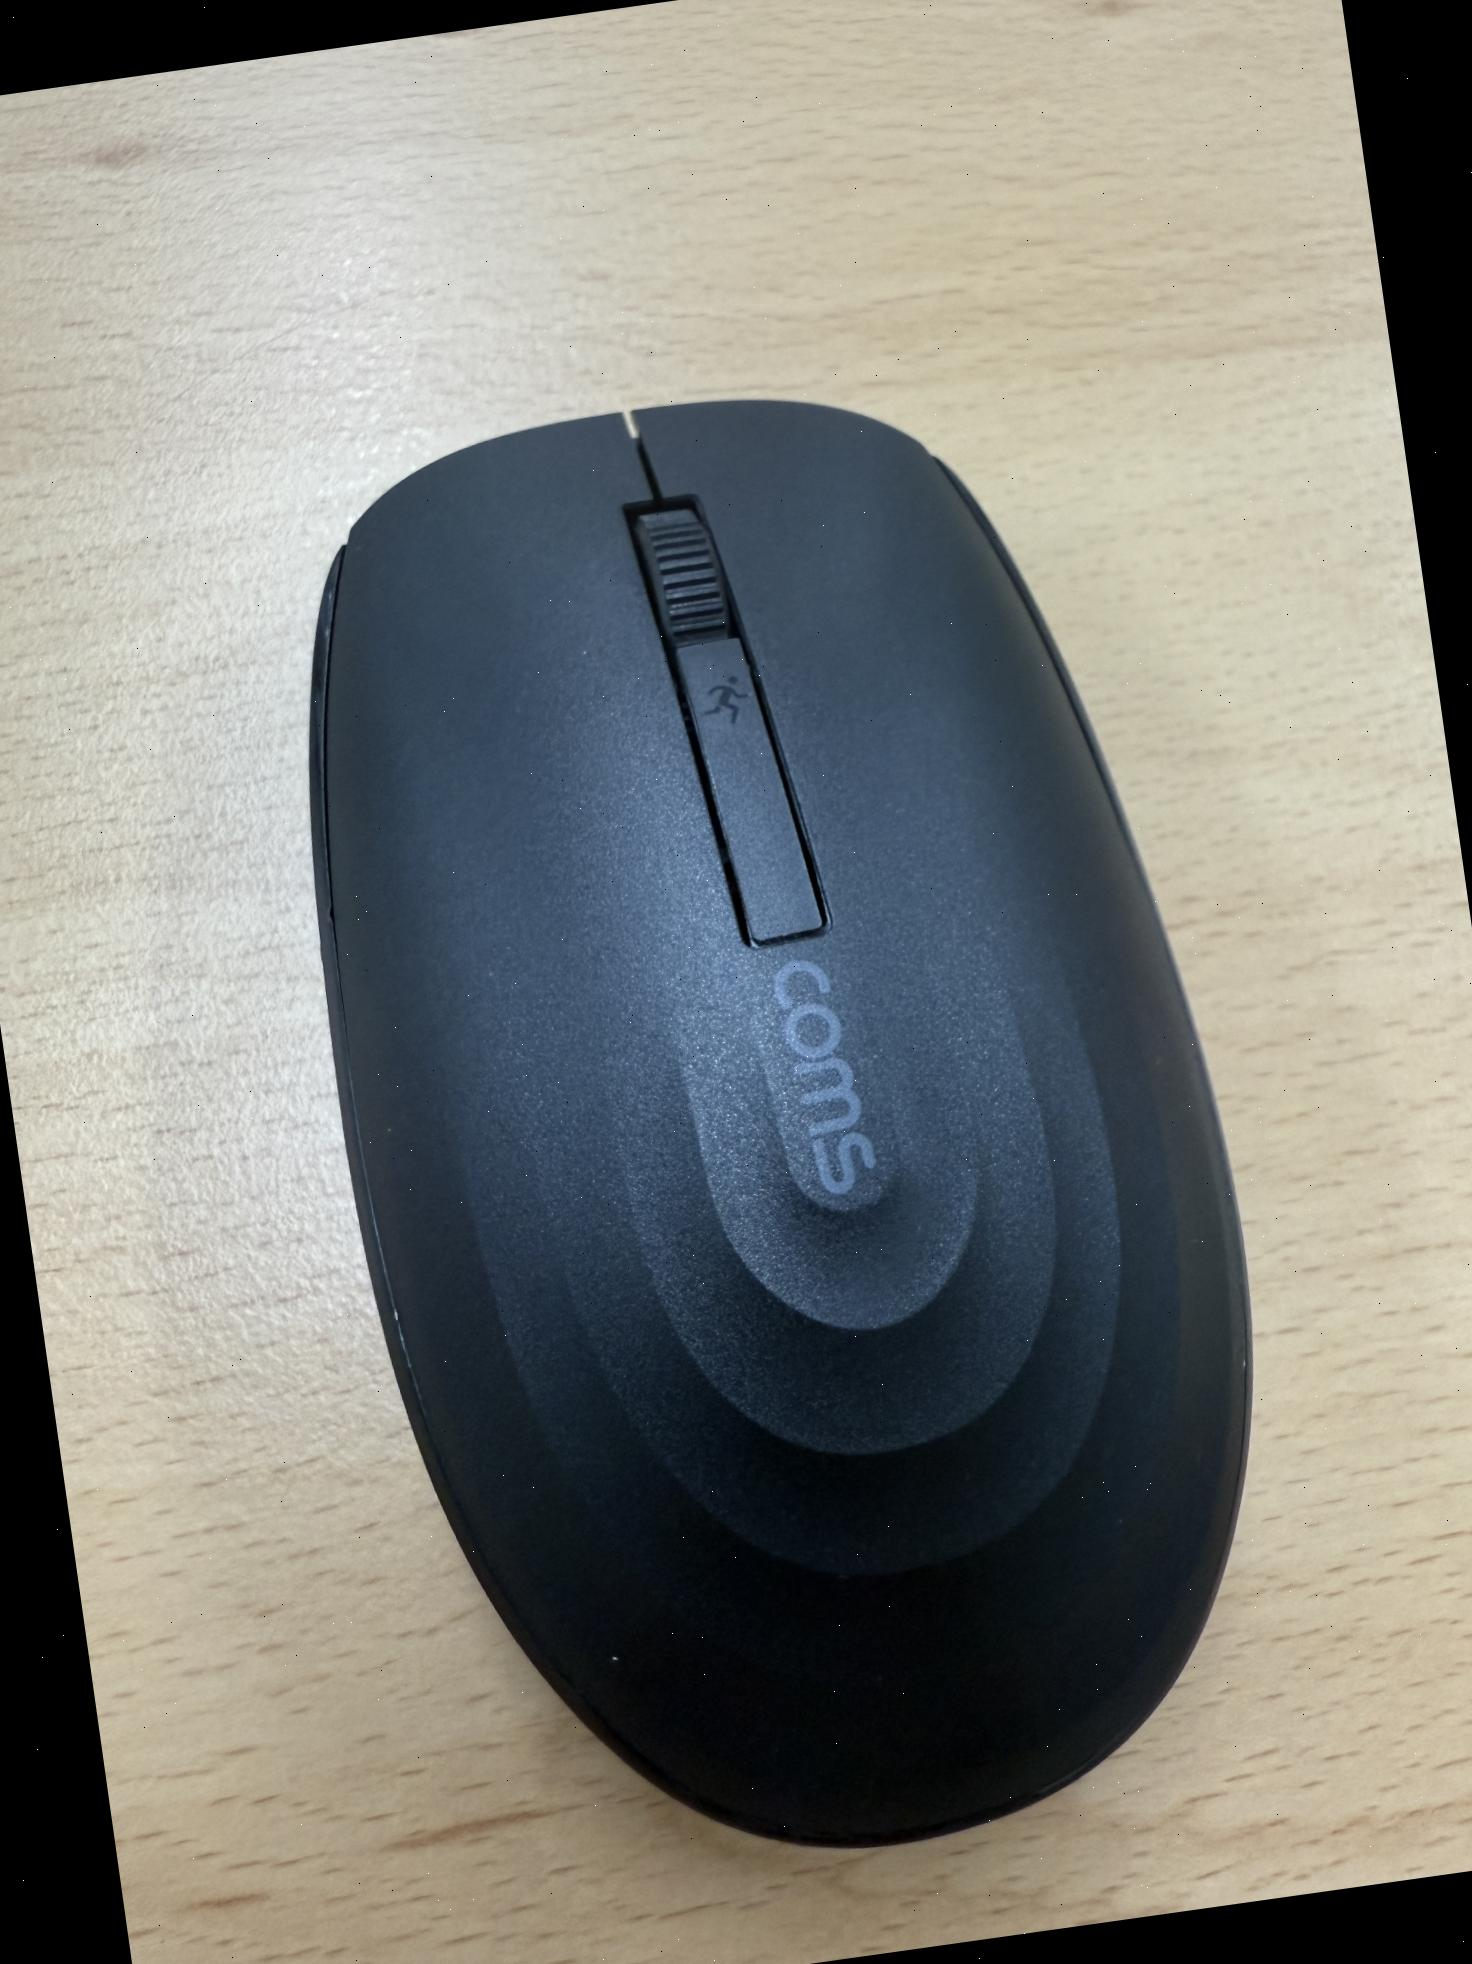front: (238, 334, 1325, 1911)
